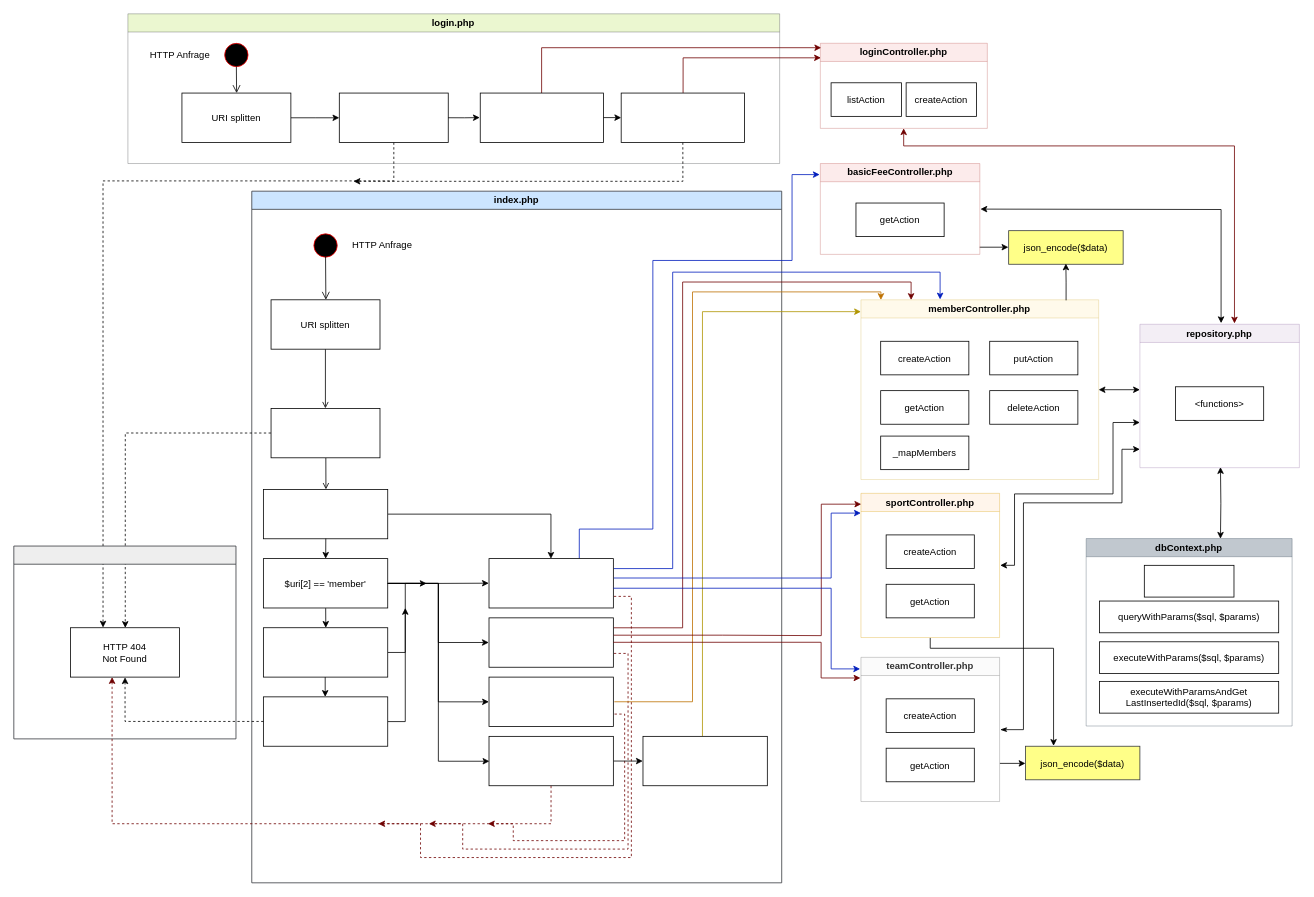
Some shapes in this 1314 by 897 pixel diagram are drawn without their labels. The centre of each missing label's shape, as x and y in pixels:
$uri[2] == 'basicFee': (x=325, y=514)
$uri[2] == 'createUser': (x=541, y=117)
$uri[2] == 'getToken': (x=682, y=117)
$uri[2] == 'sport': (x=325, y=652)
$uri[2] == 'team': (x=325, y=721)
$uri[2] gesetzt?: (x=393, y=117)
$uri[3] == 'create': (x=550, y=642)
$uri[3] == 'delete': (x=550, y=761)
$uri[3] == 'edit': (x=550, y=701)
$uri[3] == 'get': (x=550, y=583)
$uri[3] gesetzt?: (x=325, y=433)
$uri[4] gesetzt?: (x=704, y=761)
httpExtensionMethods.php: (x=124, y=642)
query($sql): (x=1189, y=581)
